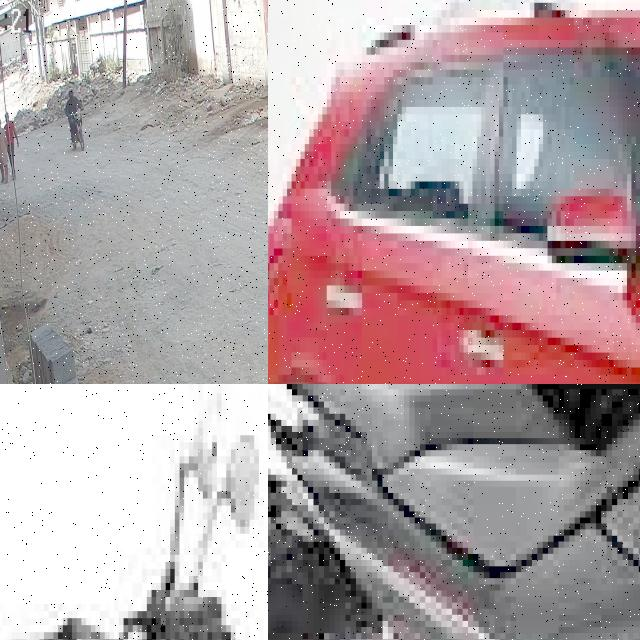bike: (268, 384, 640, 640), (0, 548, 268, 640), (69, 108, 85, 150)
car: (268, 0, 640, 384)
